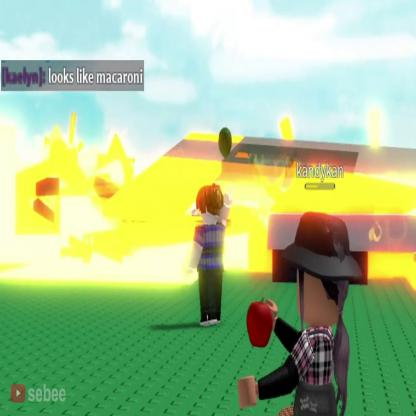Roblox-Avatar: (239, 211, 364, 416), (188, 183, 235, 328)
